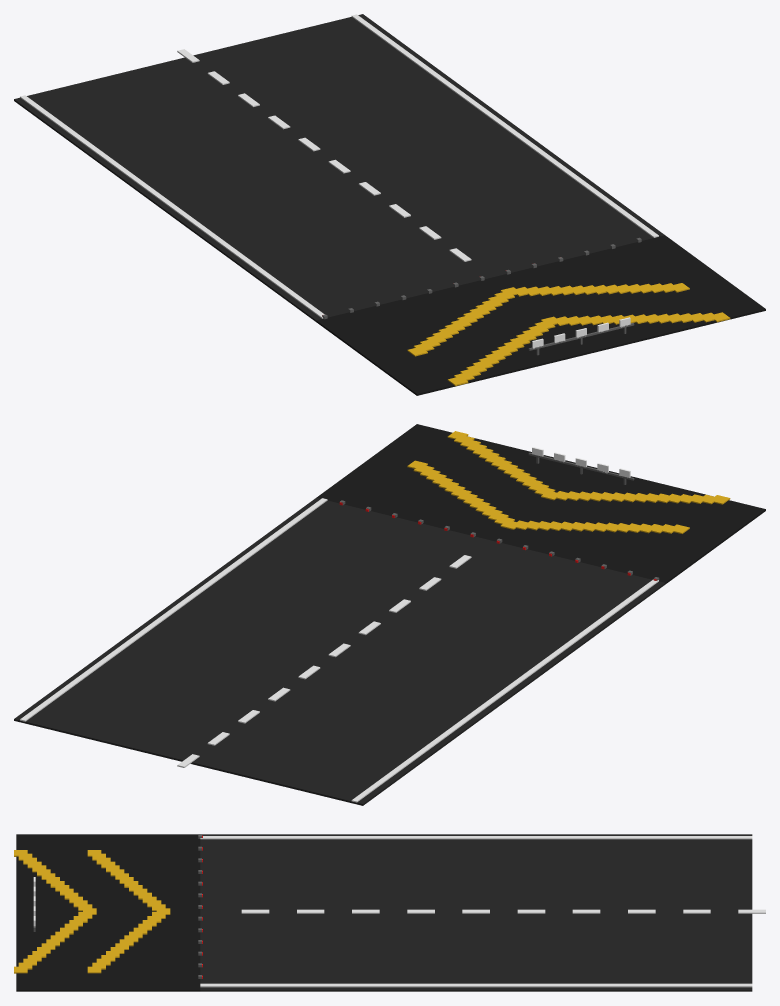
The model's file is runway_tail.obj.
The picture shows the model from 3 angles, top to bottom: view 1: azimuth 30°, elevation 25°; view 2: azimuth 150°, elevation 25°; view 3: azimuth 270°, elevation 25°; orthographic projection. The views are drawn at different scales.
Size of the model in its own units: 40 by 1.8 by 81.75.
